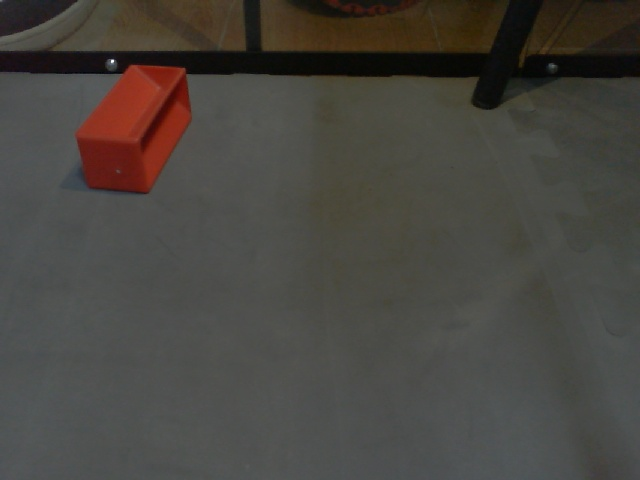RedSample: (71, 61, 193, 199)
